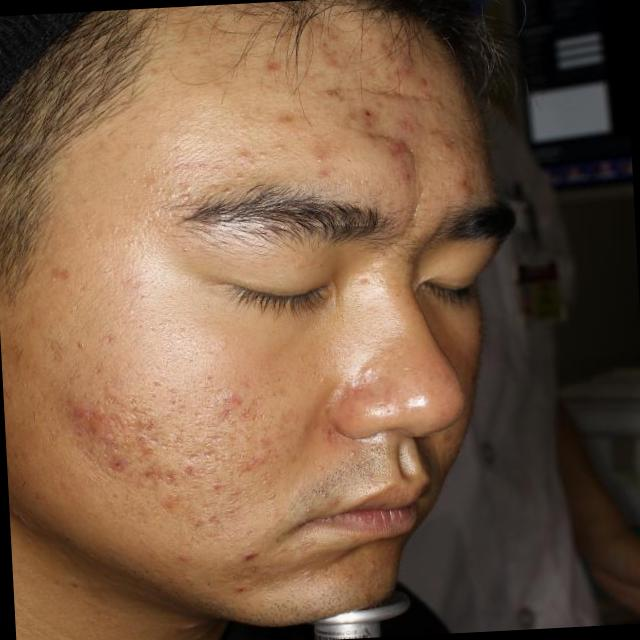acne: (261, 57, 293, 89), (358, 98, 387, 130), (396, 54, 422, 88), (382, 134, 409, 158), (395, 158, 418, 184), (88, 402, 107, 432), (110, 460, 131, 485), (456, 172, 476, 196), (427, 126, 450, 145), (63, 396, 77, 426), (275, 107, 288, 128), (137, 463, 154, 479)
